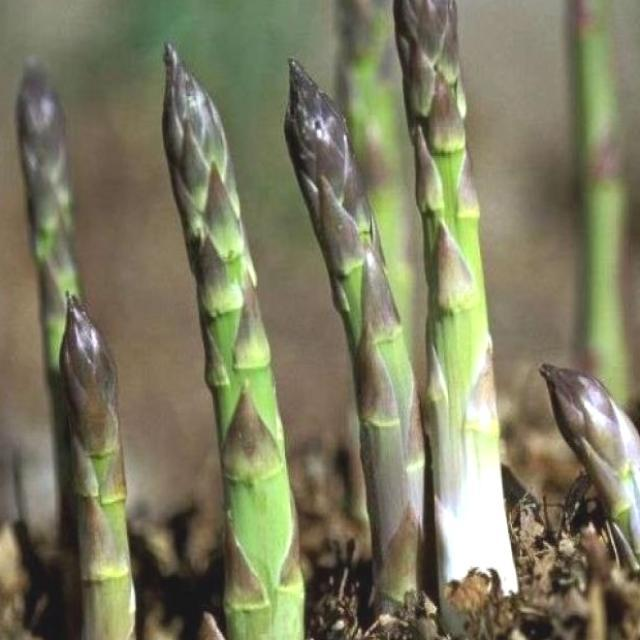aspargus: (160, 44, 305, 640), (283, 60, 429, 625), (387, 0, 514, 597), (49, 293, 142, 640)
